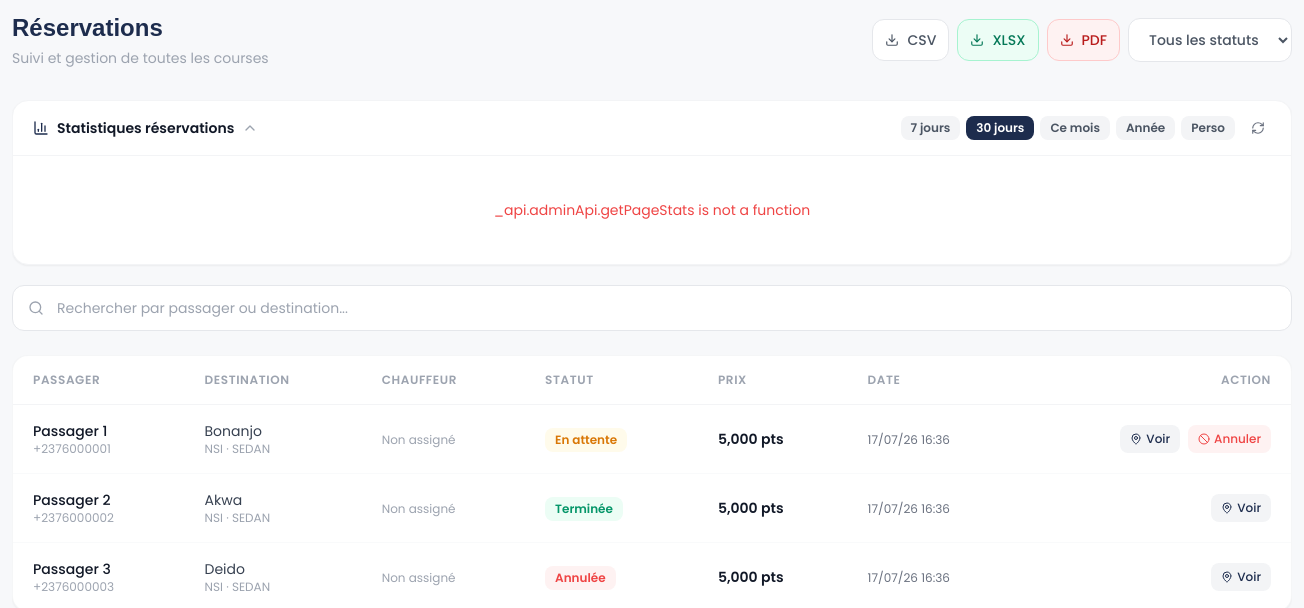
Test: BookingsPage › filtre localement les réservations par destination via la recherche
Expected: the text "Bonanjo" is shown, [204,421,262,441]
Type "Bonanjo" into the field with placeholder "Rechercher par passager ou destination...".
click(652, 308); type("Bonanjo")  # box [12,285,1292,331]
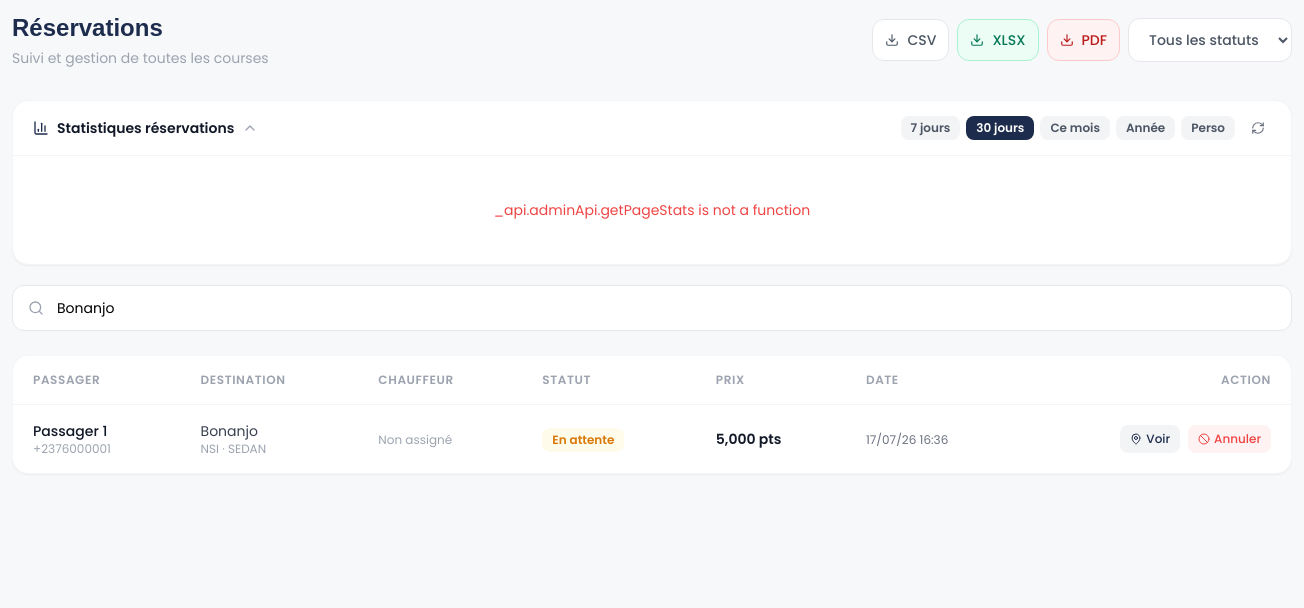
Expected: the text "Bonanjo" is shown, [200,421,258,441]
Now the text "Akwa" is gone
